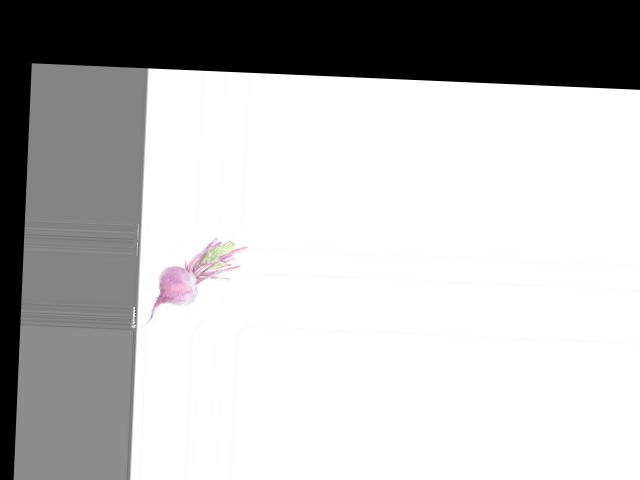beet: (142, 234, 248, 330)
